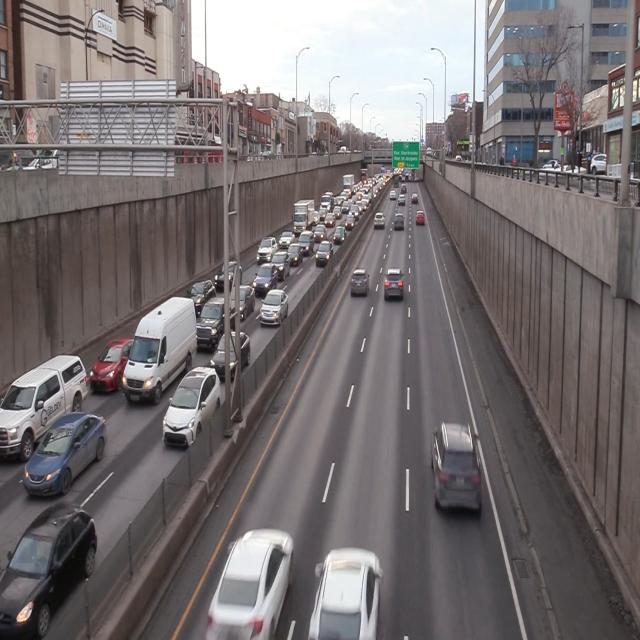Car: (0, 500, 94, 639), (207, 528, 296, 640), (0, 352, 89, 459), (122, 295, 196, 408), (23, 413, 109, 502), (308, 549, 388, 640), (162, 366, 222, 456), (431, 422, 482, 514), (89, 327, 135, 399), (195, 296, 236, 348), (210, 331, 252, 374), (257, 288, 292, 328), (231, 283, 257, 322), (187, 278, 217, 310), (253, 264, 279, 296), (215, 260, 243, 288), (383, 268, 405, 301), (349, 270, 373, 298), (314, 238, 334, 270)
